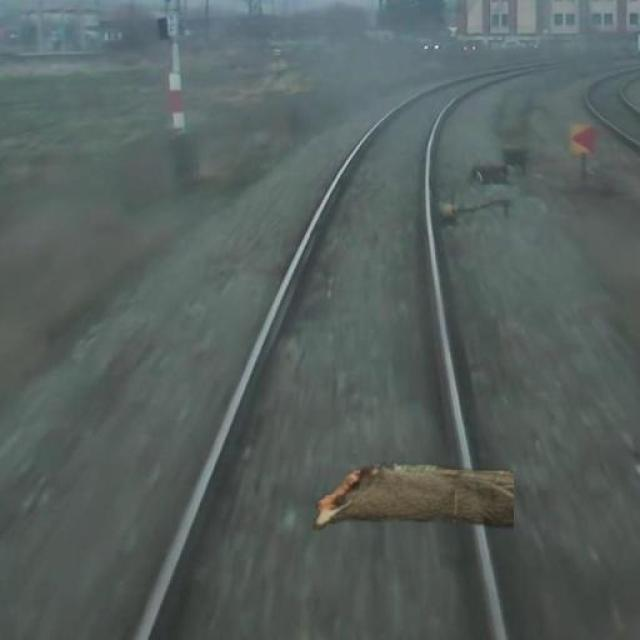Branches: (313, 440, 523, 545)
